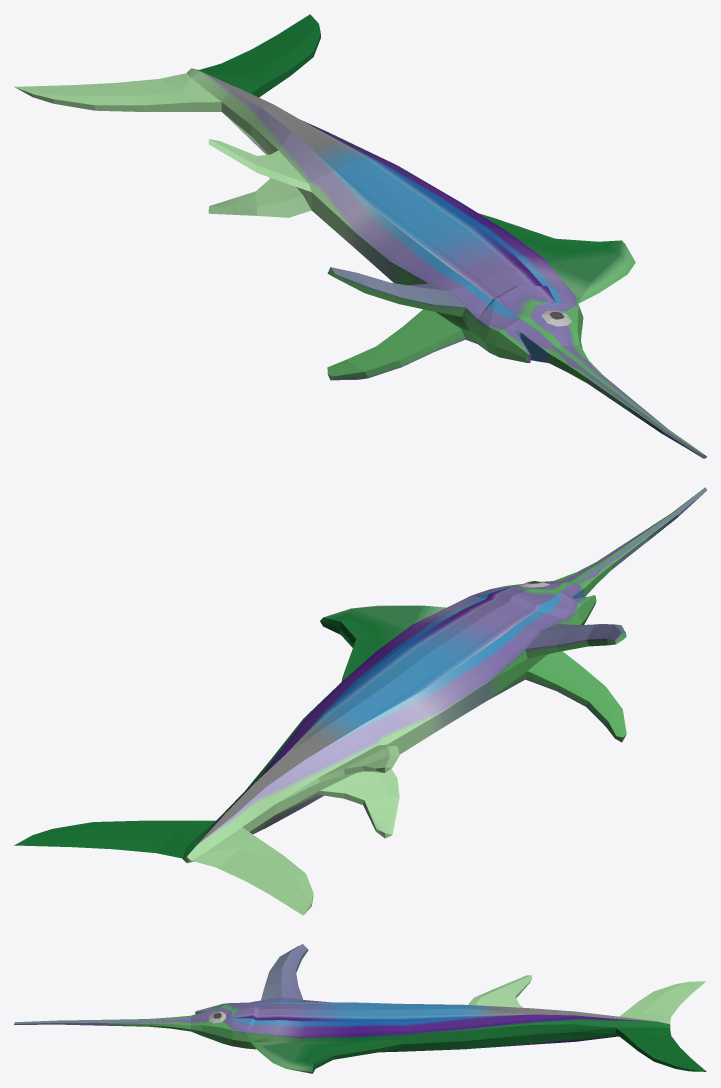
File: fish_13.FBX
3 renders of one model, top to bottom at view 1: azimuth 30°, elevation 25°; view 2: azimuth 150°, elevation 25°; view 3: azimuth 270°, elevation 25°, orthographic. The views are drawn at different scales.
Parts seen in each view (by area): view 1: fish_13; view 2: fish_13; view 3: fish_13.
Part boxes in pixels (box(x1,y1,x2,y2)): fish_13: box(14, 14, 706, 458); fish_13: box(14, 487, 706, 915); fish_13: box(14, 944, 706, 1073).
Bounding box in the file's own units: 41.89 × 14.88 × 132.
